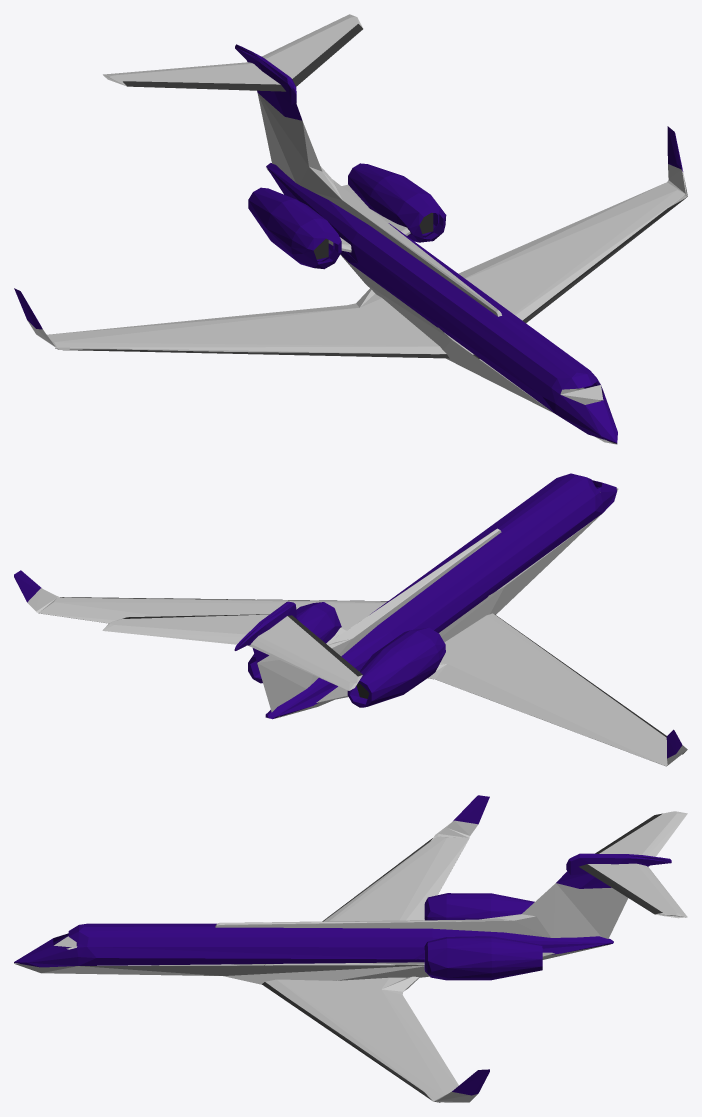
The model's file is gulfstream.lod2.glb.
The picture shows the model from 3 angles, top to bottom: view 1: azimuth 30°, elevation 25°; view 2: azimuth 150°, elevation 25°; view 3: azimuth 270°, elevation 25°; orthographic projection. The views are drawn at different scales.
Visible parts, largest first — view 1: Object_4; view 2: Object_4; view 3: Object_4.
Boxes of the visible parts, x1=… form: Object_4: x1=14, y1=14, x2=687, y2=444; Object_4: x1=14, y1=473, x2=687, y2=766; Object_4: x1=14, y1=795, x2=687, y2=1102.
Size of the model in its own units: 28.94 by 6.2 by 30.
